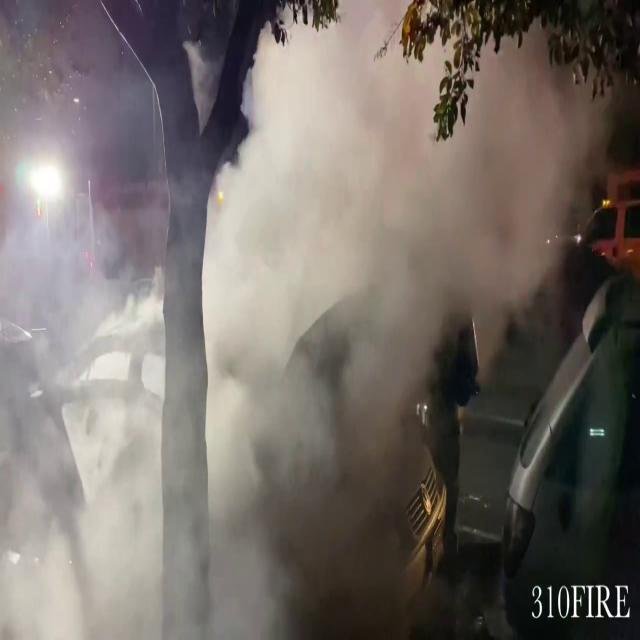Smoke: (174, 2, 594, 464)
